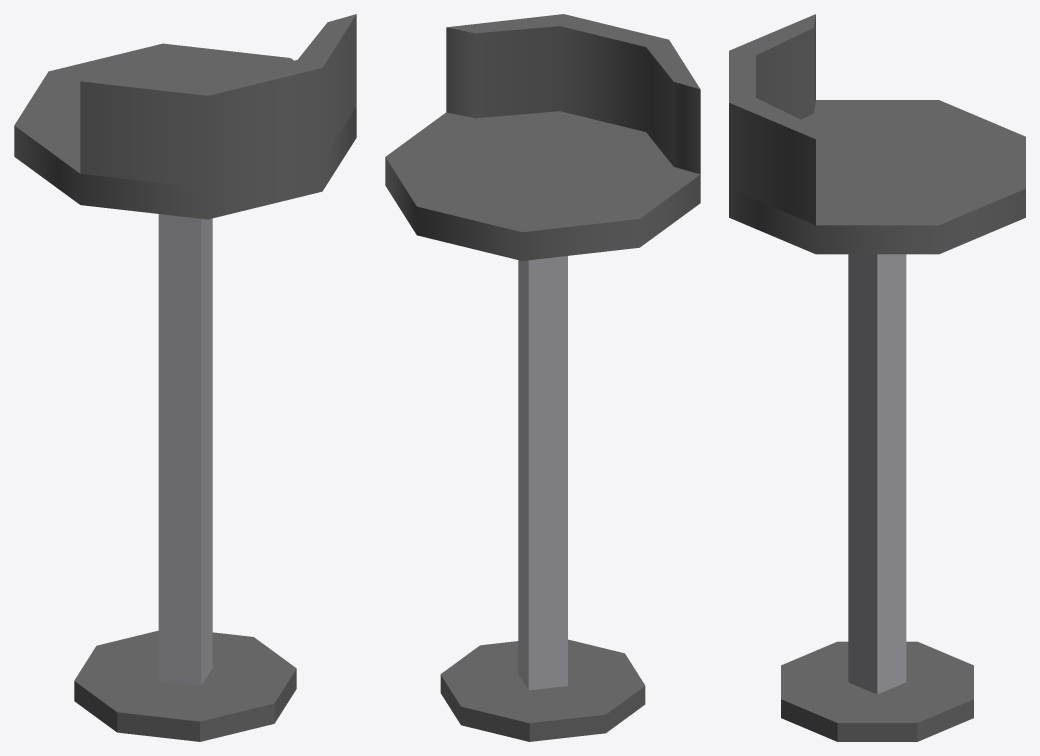
The model's file is Kitchen_Chair_2.fbx.
3 views of the same model, side by side, from view 1: azimuth 30°, elevation 25°; view 2: azimuth 150°, elevation 25°; view 3: azimuth 270°, elevation 25° (orthographic). The views are drawn at different scales.
Parts seen in each view (by area): view 1: polySurface981; view 2: polySurface981; view 3: polySurface981.
Part boxes in pixels (x1,y1,x2,y2): polySurface981: [14, 14, 356, 741]; polySurface981: [385, 14, 700, 741]; polySurface981: [729, 14, 1025, 741].
Bounding box in the file's own units: 0.4619 × 1.07 × 0.4619.
